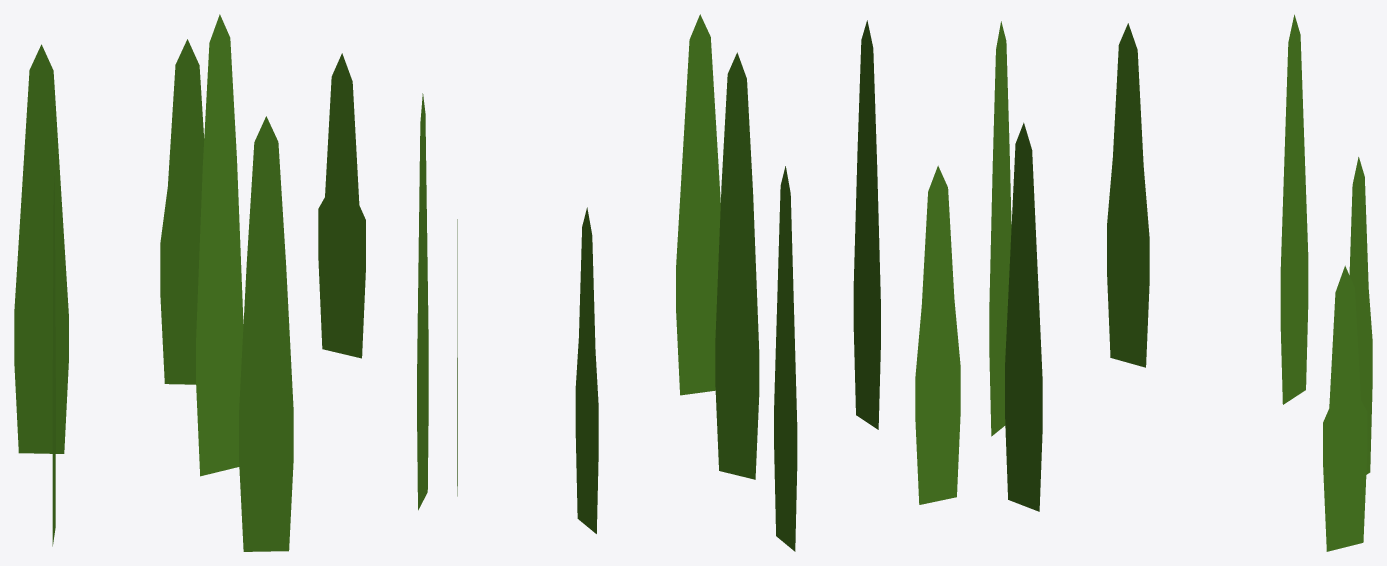
Rendered from grass.fbx.
3 views of the same model, side by side, from view 1: azimuth 30°, elevation 25°; view 2: azimuth 150°, elevation 25°; view 3: azimuth 270°, elevation 25° (orthographic). The views are drawn at different scales.
Visible parts, largest first — view 1: GrassBlade.006, GrassBlade.004, GrassBlade, GrassBlade.003, GrassBlade.001, GrassBlade.002, GrassBlade.005; view 2: GrassBlade, GrassBlade.002, GrassBlade.005, GrassBlade.006, GrassBlade.004, GrassBlade.003; view 3: GrassBlade.002, GrassBlade.005, GrassBlade.001, GrassBlade.004, GrassBlade.006, GrassBlade.003.
Part boxes in pixels (<box>): GrassBlade.006: <box>239,116,293,551</box>; GrassBlade.004: <box>14,44,68,453</box>; GrassBlade: <box>196,14,243,476</box>; GrassBlade.003: <box>160,39,204,384</box>; GrassBlade.001: <box>318,53,365,358</box>; GrassBlade.002: <box>417,93,428,510</box>; GrassBlade.005: <box>52,176,55,546</box>; GrassBlade: <box>715,52,759,479</box>; GrassBlade.002: <box>676,14,720,395</box>; GrassBlade.005: <box>915,165,960,504</box>; GrassBlade.006: <box>853,20,880,429</box>; GrassBlade.004: <box>774,166,797,551</box>; GrassBlade.003: <box>575,207,598,533</box>; GrassBlade.002: <box>1005,122,1042,511</box>; GrassBlade.005: <box>1107,23,1149,367</box>; GrassBlade.001: <box>1323,265,1367,551</box>; GrassBlade.004: <box>1280,14,1308,404</box>; GrassBlade.006: <box>989,21,1011,436</box>; GrassBlade.003: <box>1349,157,1372,474</box>.
Bounding box in the file's own units: 350 × 423 × 431.
